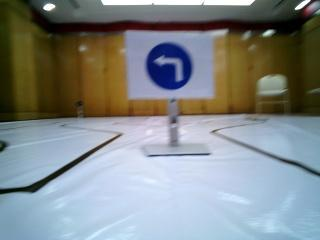left: (133, 36, 209, 95)
